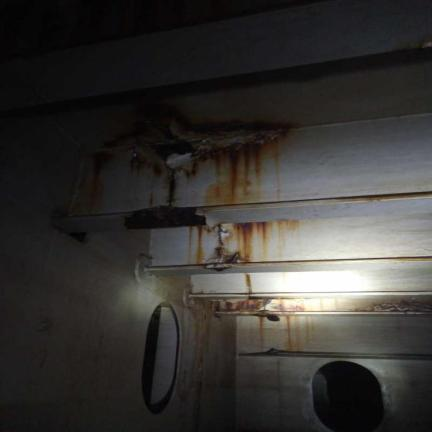besi_tidak_karat: (0, 117, 235, 431), (89, 58, 431, 145), (177, 116, 431, 206), (222, 213, 431, 267), (194, 192, 431, 226), (236, 315, 431, 356), (192, 267, 431, 298), (236, 355, 331, 431), (261, 315, 431, 353), (354, 358, 431, 431), (146, 256, 431, 275), (150, 227, 217, 269), (52, 212, 132, 232), (143, 208, 197, 227), (237, 317, 258, 351), (168, 207, 191, 218)
karat: (131, 108, 290, 170), (212, 296, 431, 315), (126, 206, 204, 228), (206, 224, 240, 271), (232, 222, 267, 259), (167, 168, 177, 206), (285, 220, 299, 227), (267, 315, 279, 321)
